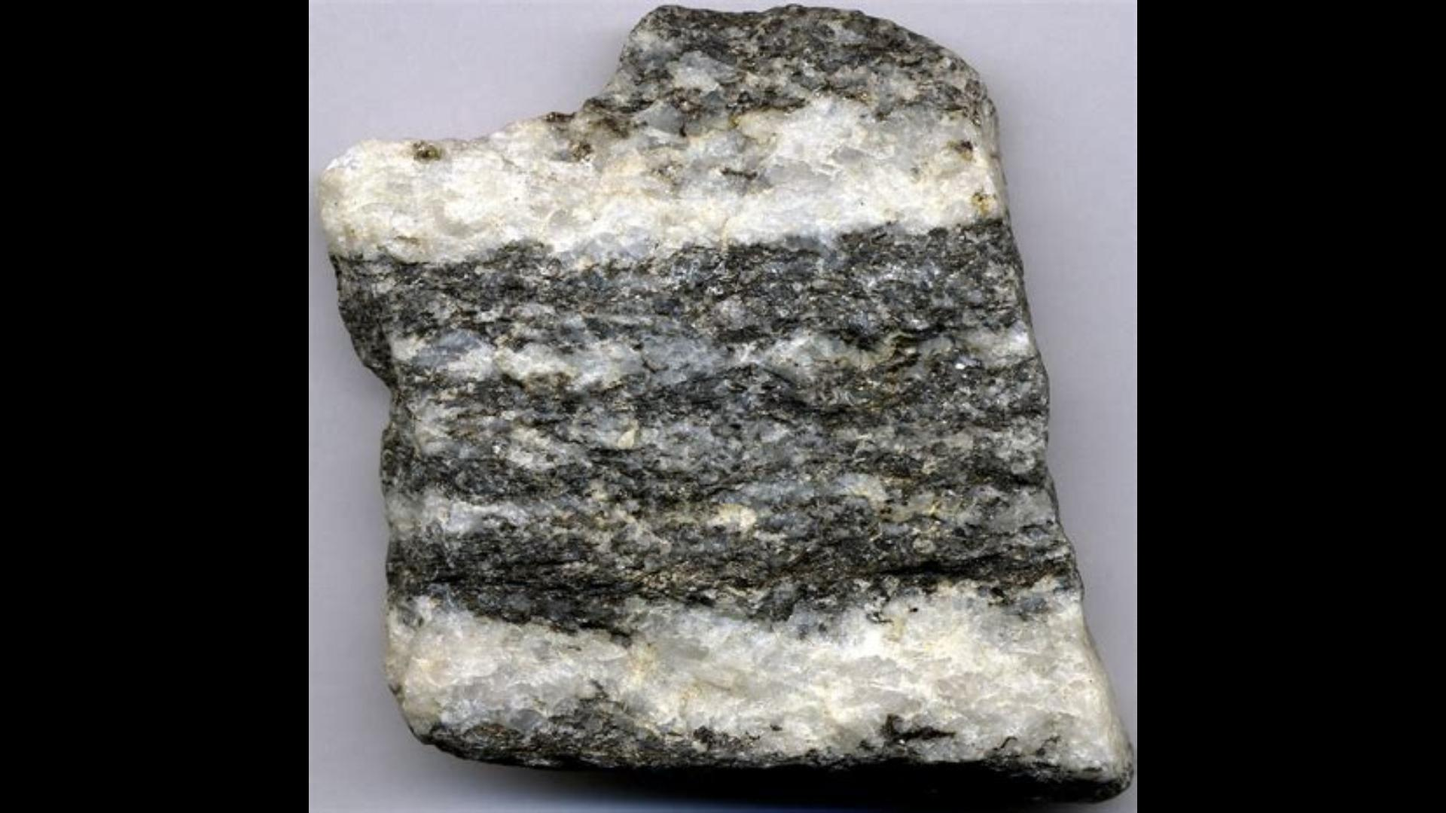rock: (335, 7, 1126, 789)
